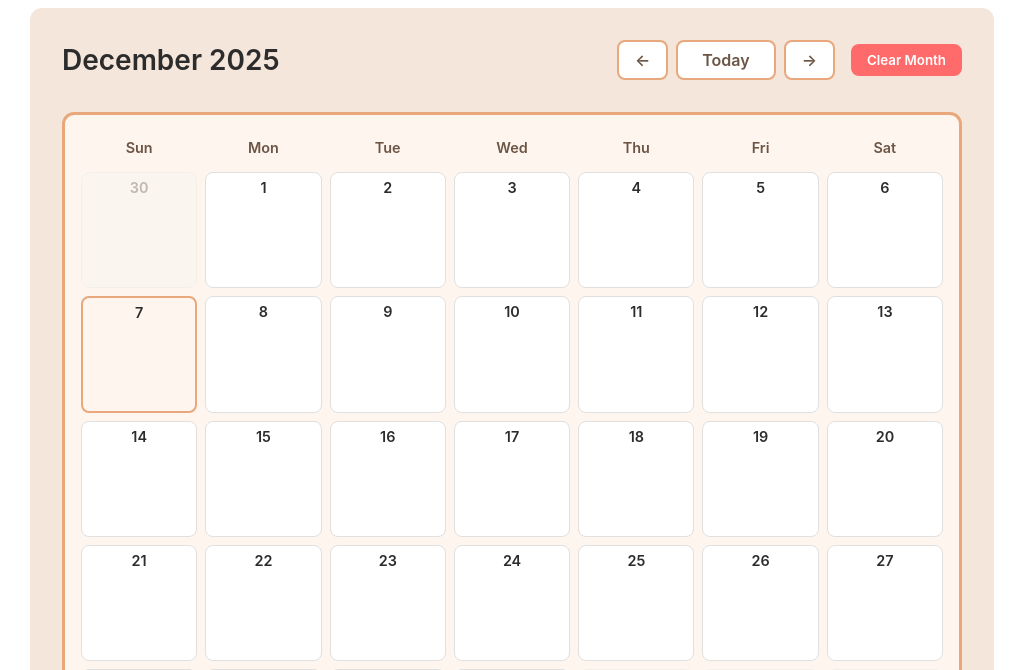
Test case: CalendarMonth › returns to current month when clicking today button
// Navigate to next month
Click the button "→".
click(809, 60)  # box [784,40,835,80]
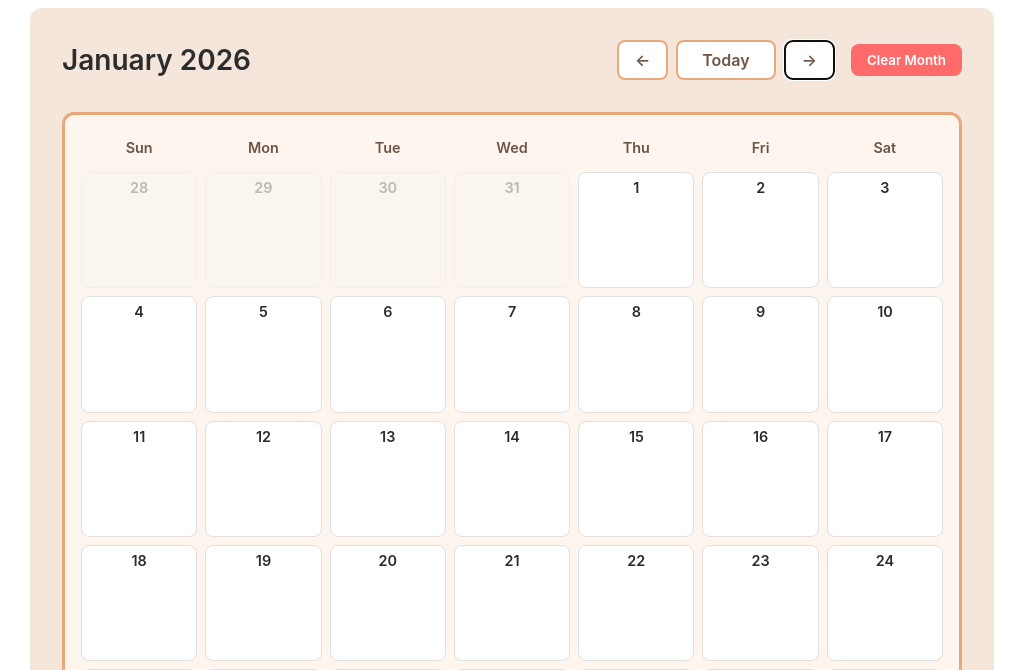
// Click today button
Click the button "Today".
click(726, 60)  # box [676,40,776,80]
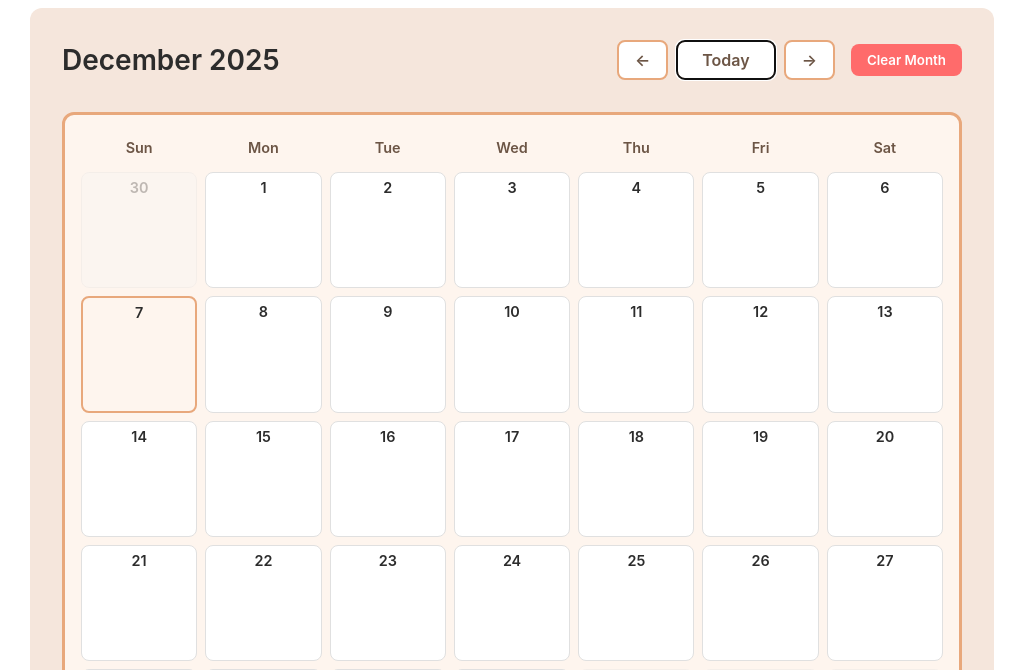
Expected: the heading "December 2025" is shown, [62,43,280,77]
